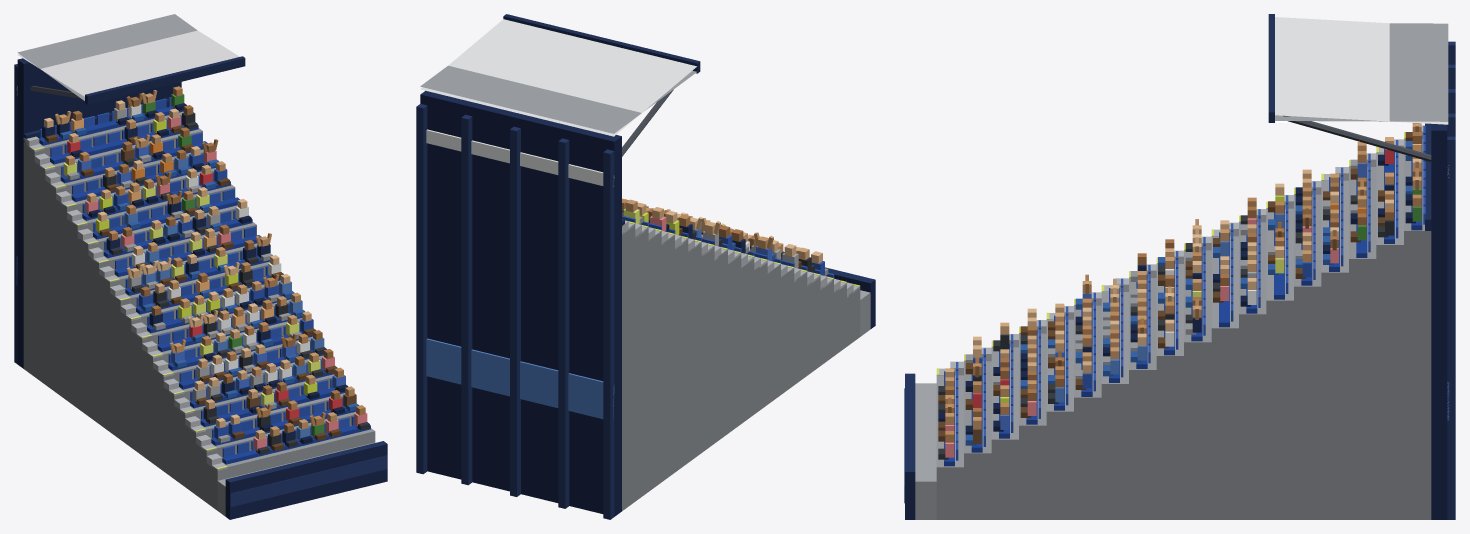
The model's file is Stand_w22_4.glb.
3 renders of one model, left to right at view 1: azimuth 30°, elevation 25°; view 2: azimuth 150°, elevation 25°; view 3: azimuth 270°, elevation 25°, orthographic. The views are drawn at different scales.
Visible parts, largest first — view 1: Stand_w22_4; view 2: Stand_w22_4; view 3: Stand_w22_4.
Boxes of the visible parts, x1,y1,x2,y2 form: Stand_w22_4: (14, 14, 387, 519); Stand_w22_4: (416, 14, 875, 519); Stand_w22_4: (904, 14, 1455, 519).
Size of the model in its own units: 22 by 42.55 by 52.16.
Materials: 2 (1 with a texture image).
